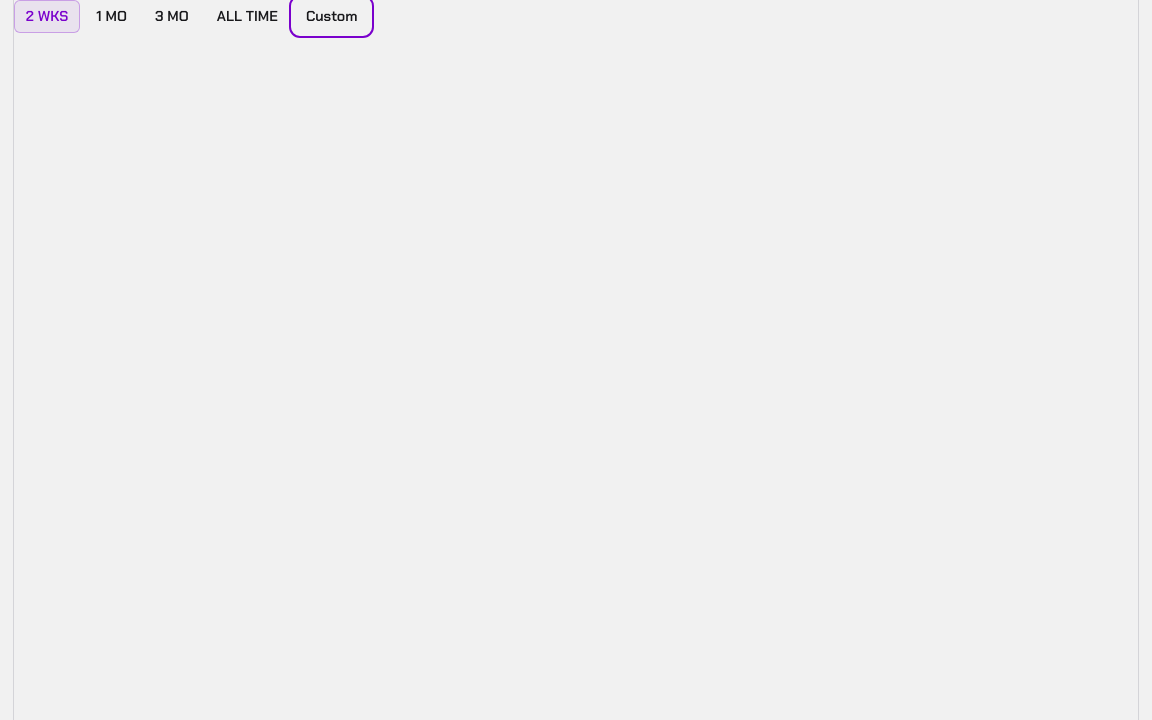
Scenario: DateRangePicker › opens custom date inputs from the compact desktop Custom control
Step 1. Click the button "Custom" → [332, 16], box [294,0,369,33]
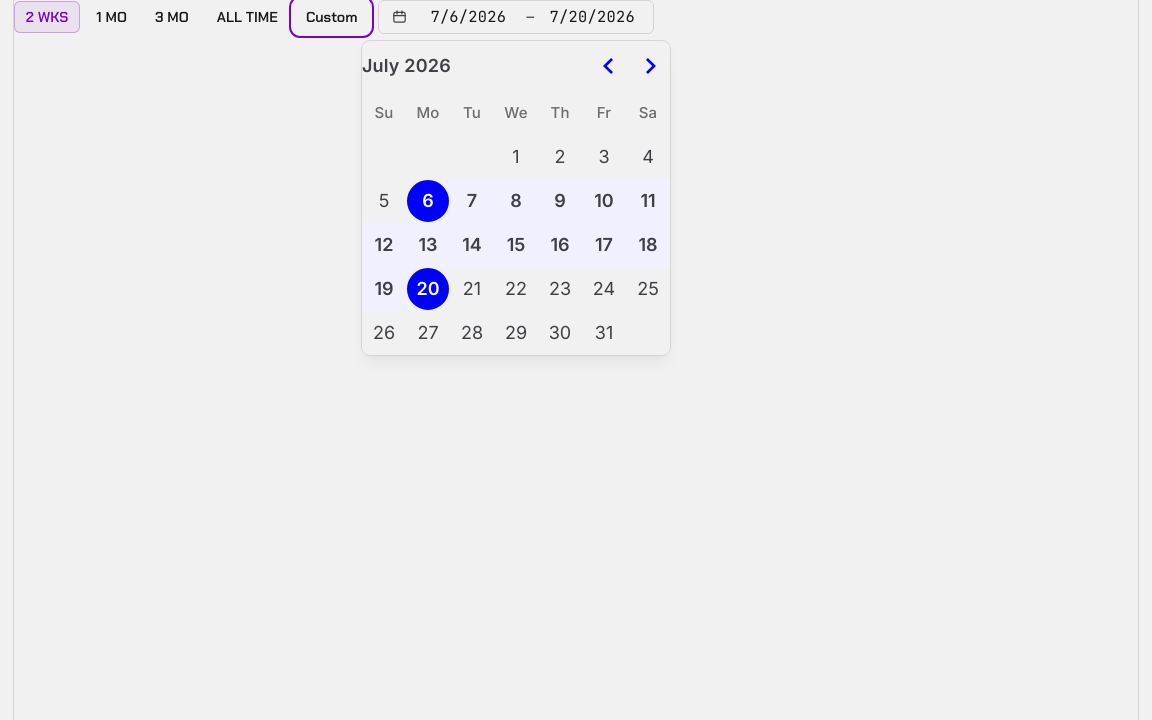
expect the field named "Start date" is shown: met, box [412,1,525,33]
expect the field named "End date" is shown: met, box [536,1,648,33]
expect the button "Custom" is expanded: met, box [294,1,369,33]
